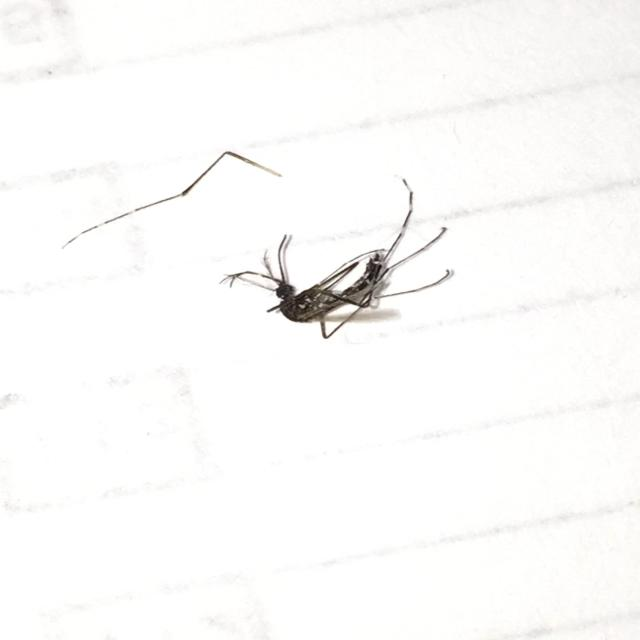albopictus: (196, 169, 460, 344)
